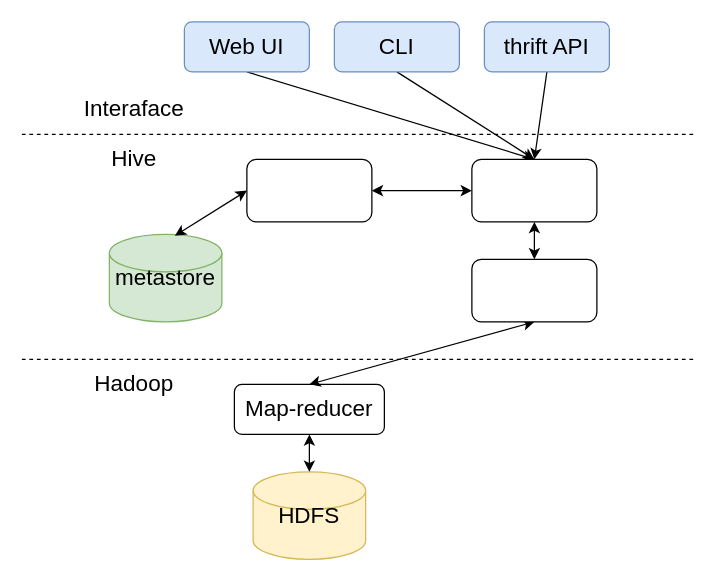
This 720x581 diagram has some shape labels left out. The shapes that lost their labels are listed below. From the top down, each one's box as (x1, y1, x2, y2) in pixels, then its label:
(246, 158, 372, 222): Compiler
(471, 158, 597, 222): Driver
(471, 258, 597, 322): Execution Engine
